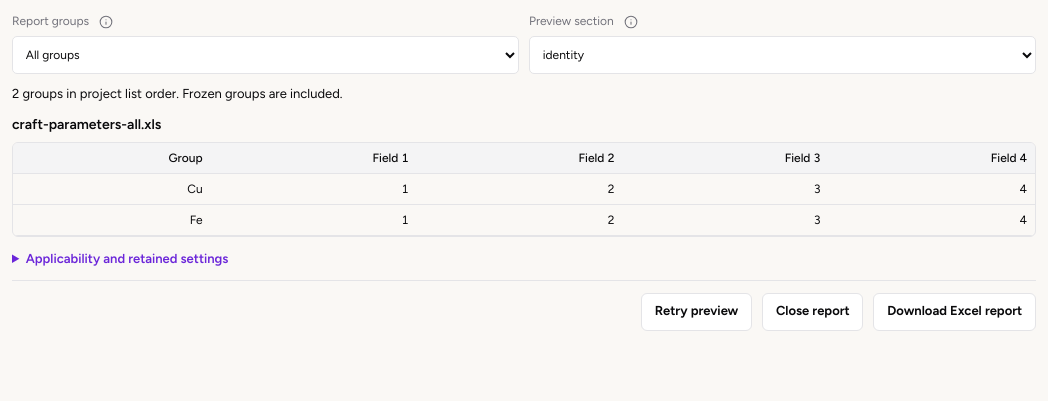
Test: keeps choices on a revision conflict and does not save a stale report
What coordinates should you click on to do the following:
click the button "Download Excel report"
I would click on:
 (955, 312)
Its box is [874,293,1036,330].
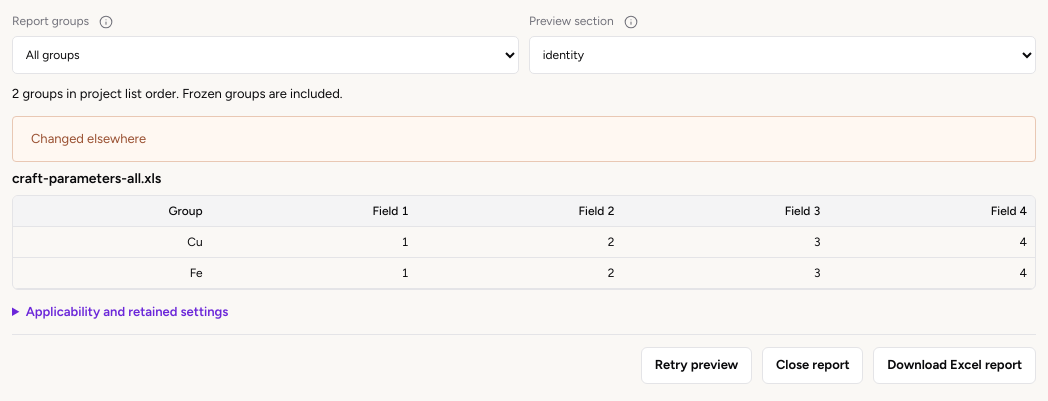
Expected: the dropdown labelled "Report groups" shows "All groups", [12,36,519,74]
Result: the message reads "Changed elsewhere" at [31,131,146,146]
